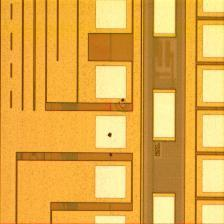PIQ PARTICLE: (107, 97, 128, 160)
